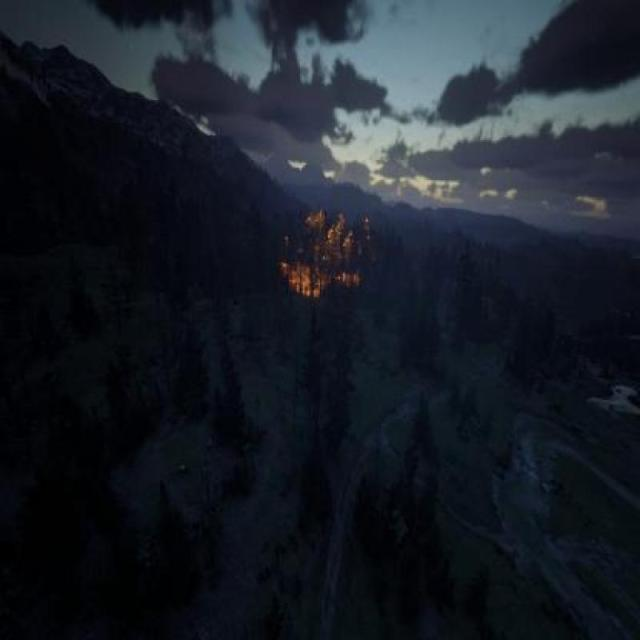Fire: (276, 201, 378, 309)
